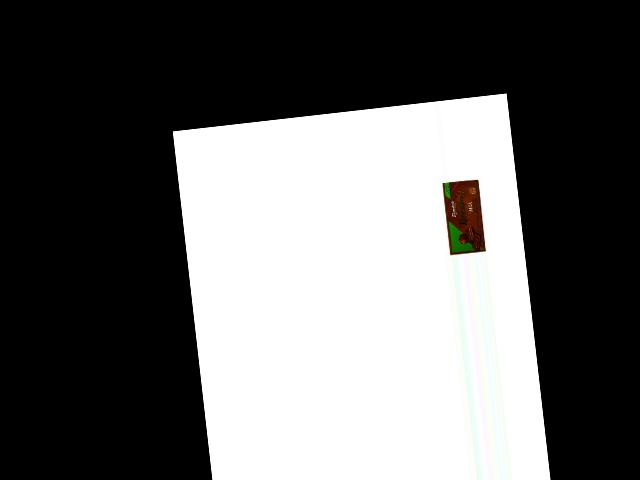chocolate: (440, 175, 489, 256)
